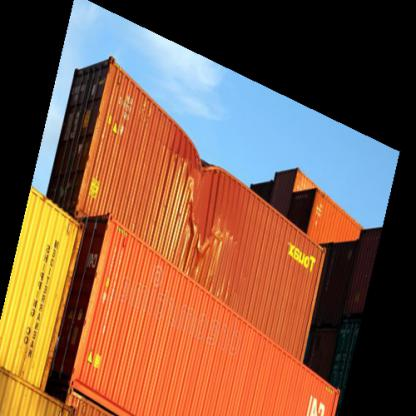Damage: (172, 147, 230, 254)
